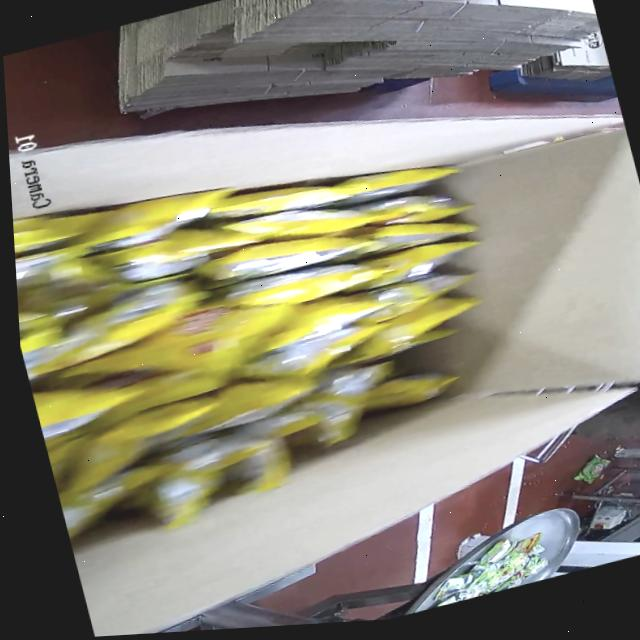SALTED: (8, 111, 534, 542)
